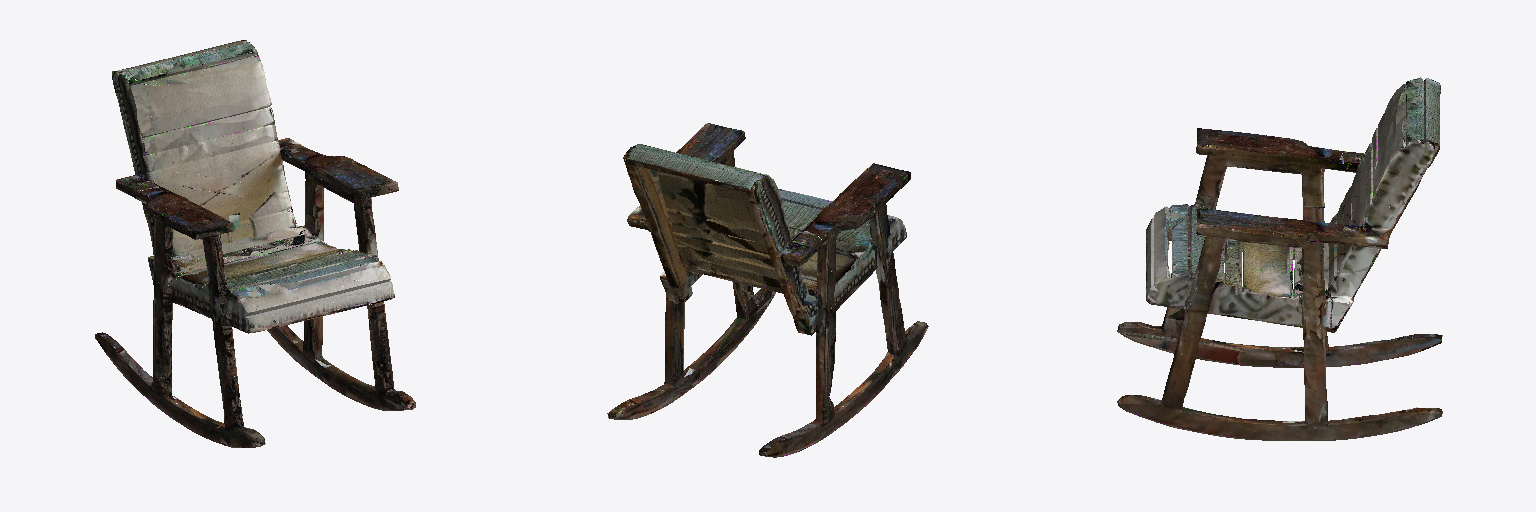
3 views of the same model, side by side, from view 1: azimuth 30°, elevation 25°; view 2: azimuth 150°, elevation 25°; view 3: azimuth 270°, elevation 25° (orthographic).
Bounding box in the file's own units: 0.5904 × 0.8136 × 0.8168.
1 materials, 1 textured.